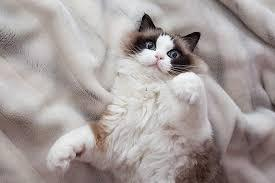ragdoll: (123, 8, 203, 94)
